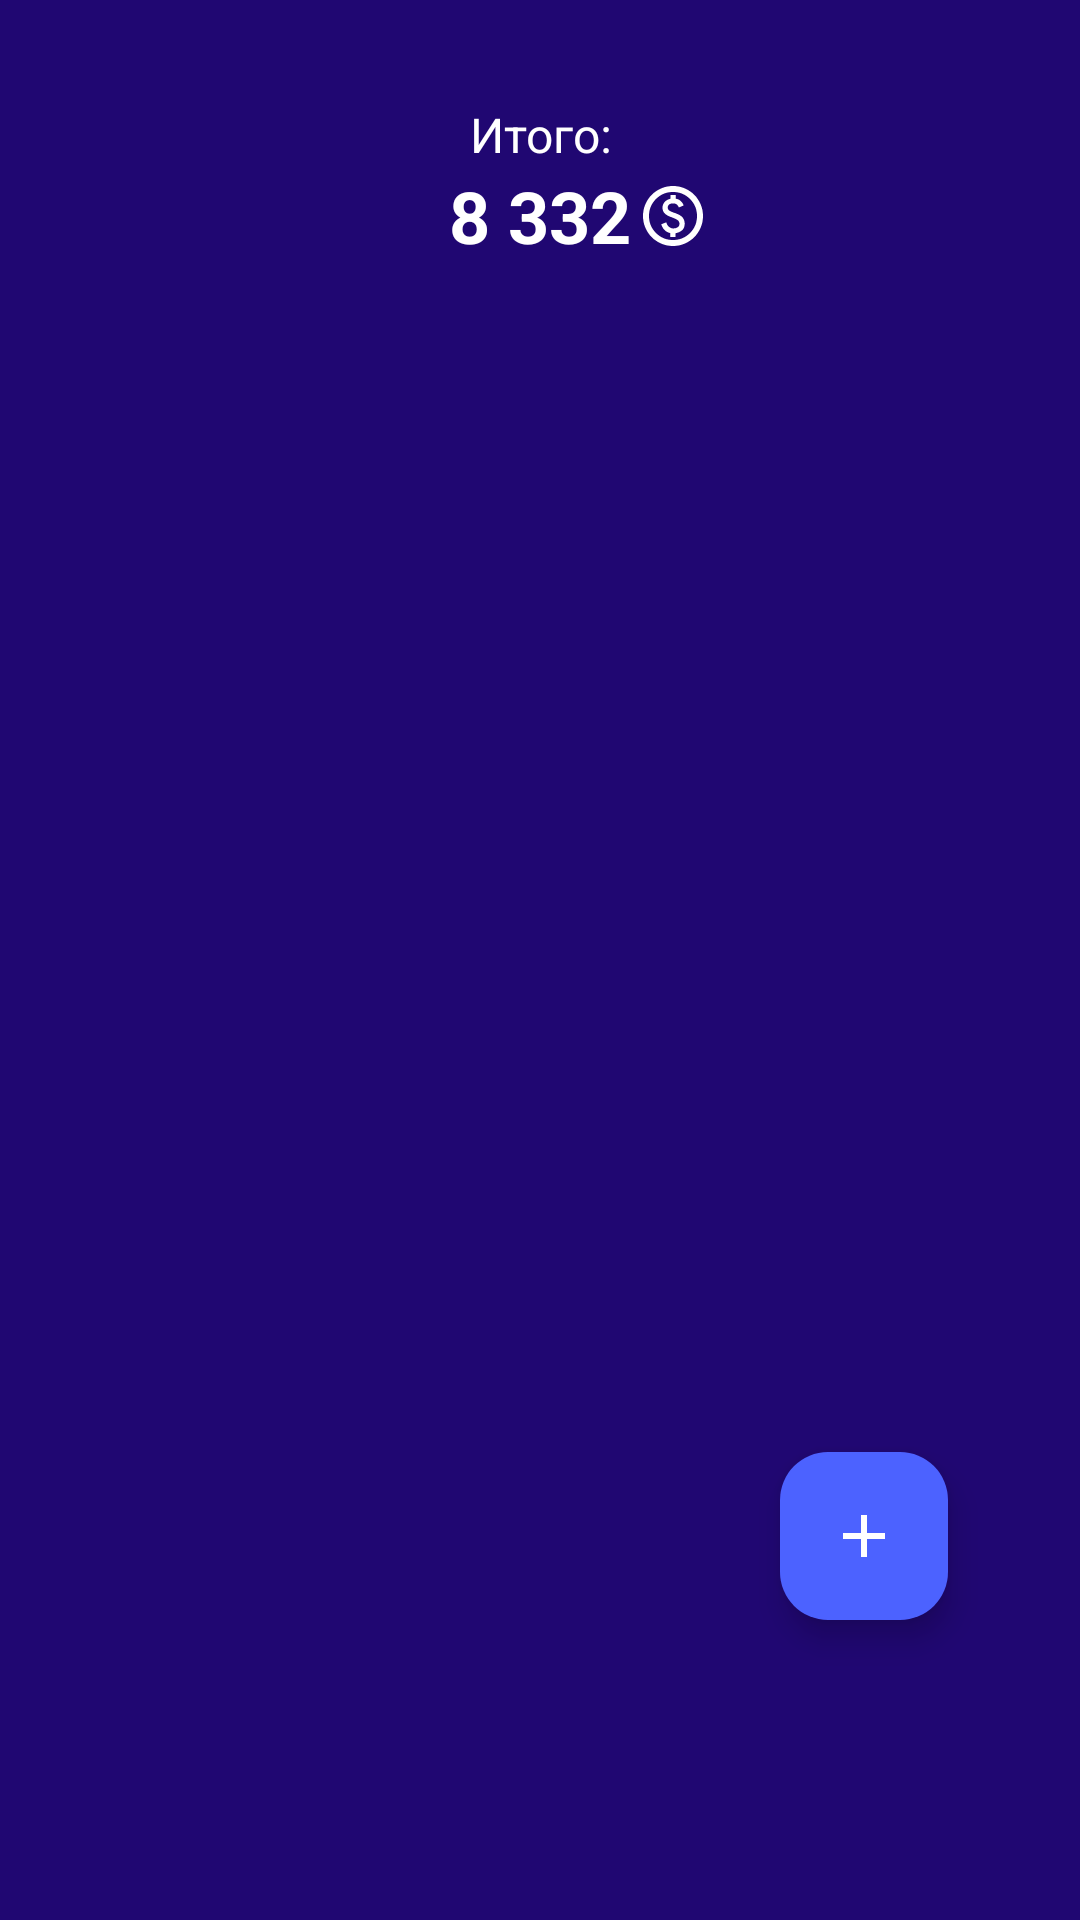

Named icons in this screenshot (1080w x 1920h) and their bounding boxes, (x1, y1, x2, y2):
coin: (643, 186, 703, 246)
Добавить: (780, 1452, 948, 1620)
